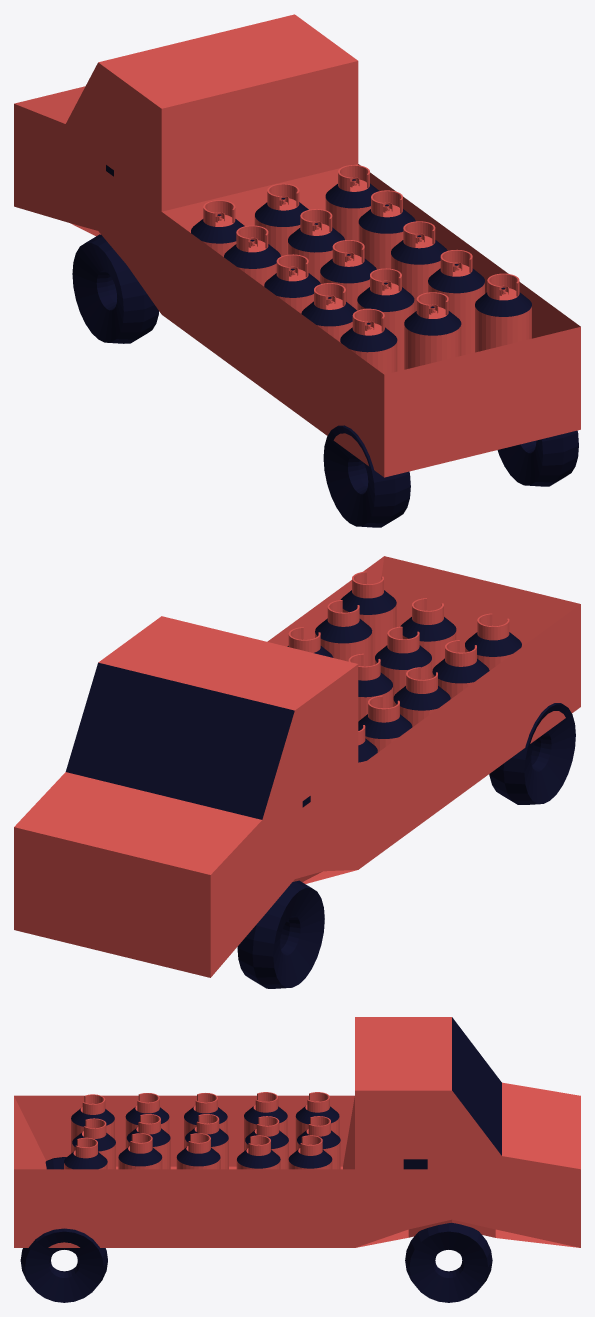
The model's file is romita assets.glb.
3 views of the same model, one above another, from view 1: azimuth 30°, elevation 25°; view 2: azimuth 150°, elevation 25°; view 3: azimuth 270°, elevation 25° (orthographic). The views are drawn at different scales.
Parts seen in each view (by area): view 1: Circle.010; view 2: Circle.010; view 3: Circle.010.
Part boxes in pixels (box(x1,y1,x2,y2)): Circle.010: box(14, 14, 580, 527); Circle.010: box(14, 556, 580, 988); Circle.010: box(14, 1017, 580, 1302).
Size of the model in its own units: 1.56 by 2.04 by 4.89.
